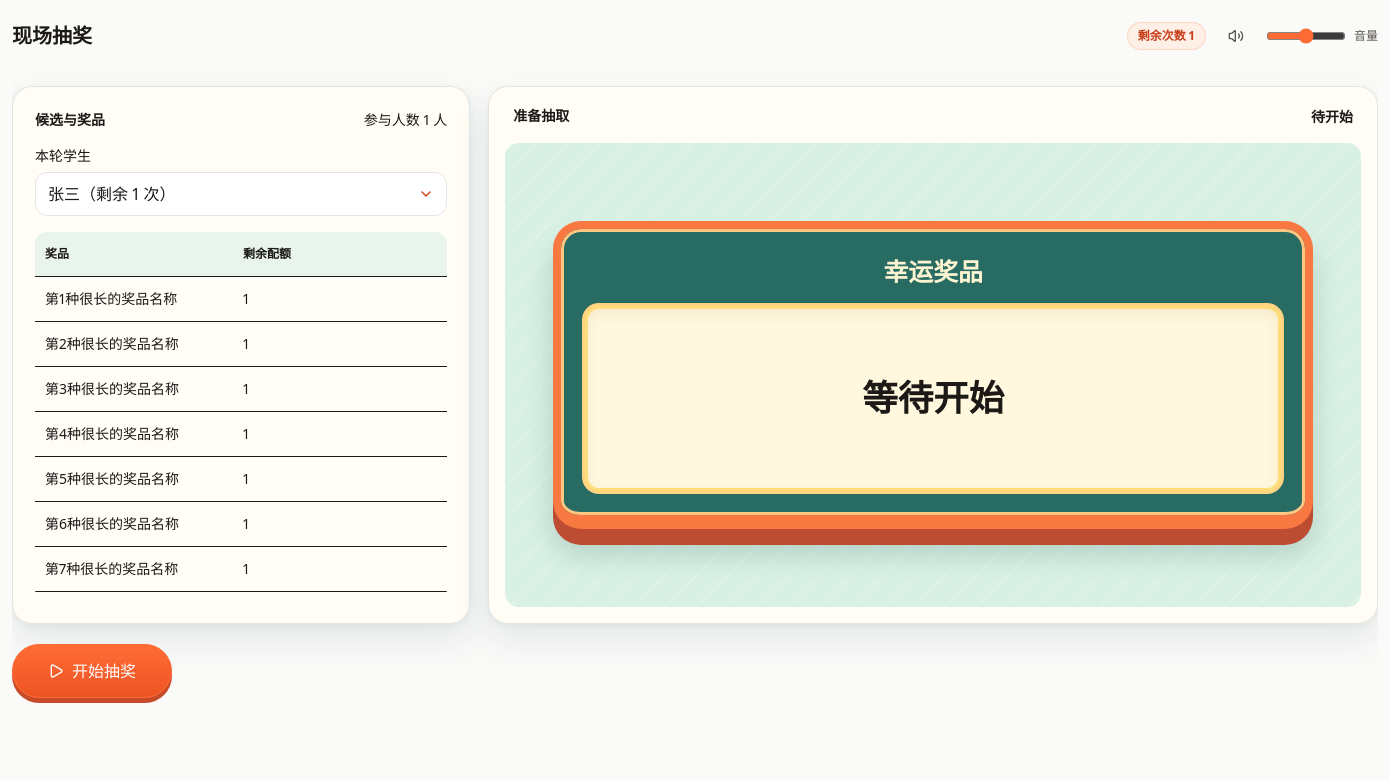
Test: many prize categories keep the slot stage bounded to three windows
Click the dropdown named "本轮学生": (64, 194) [35,172,447,216]
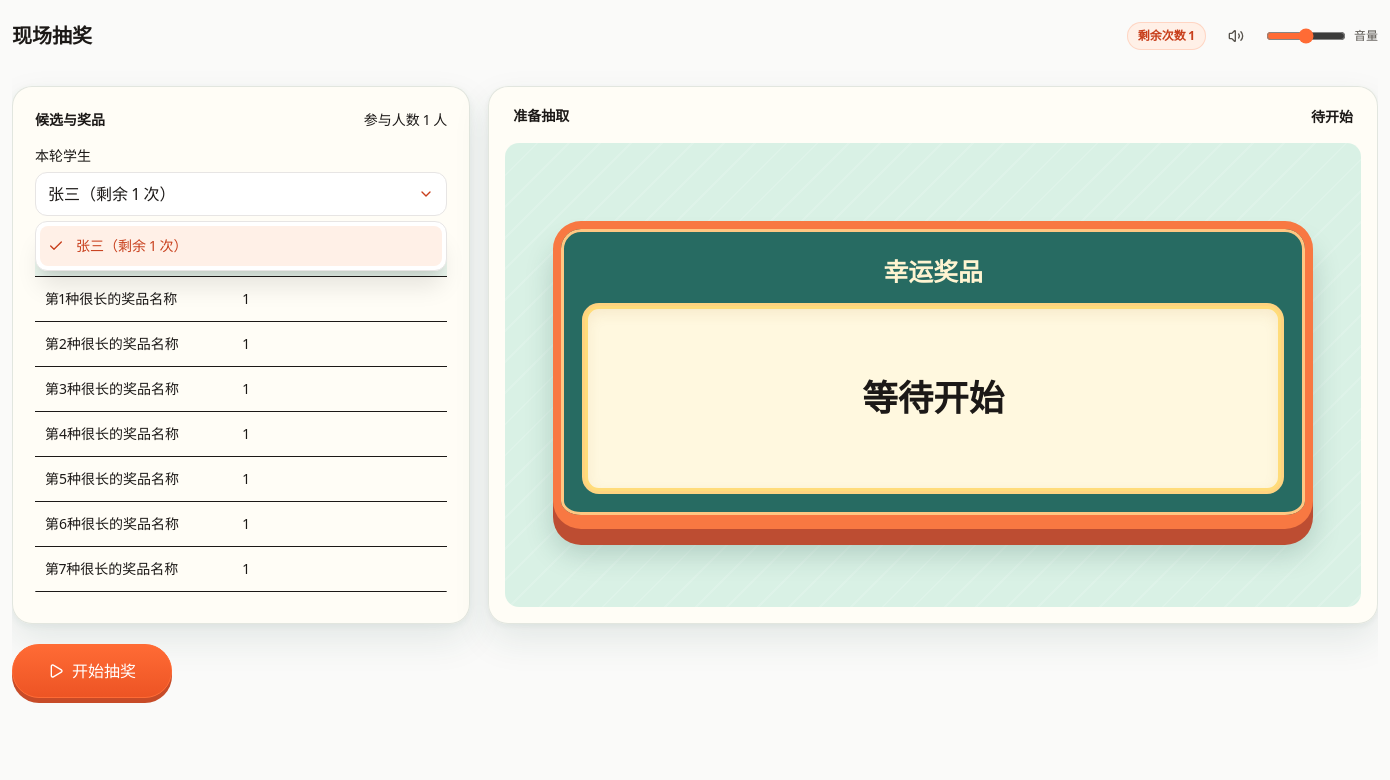
Click the option "张三（剩余 1 次）": (127, 246) [40,226,442,266]
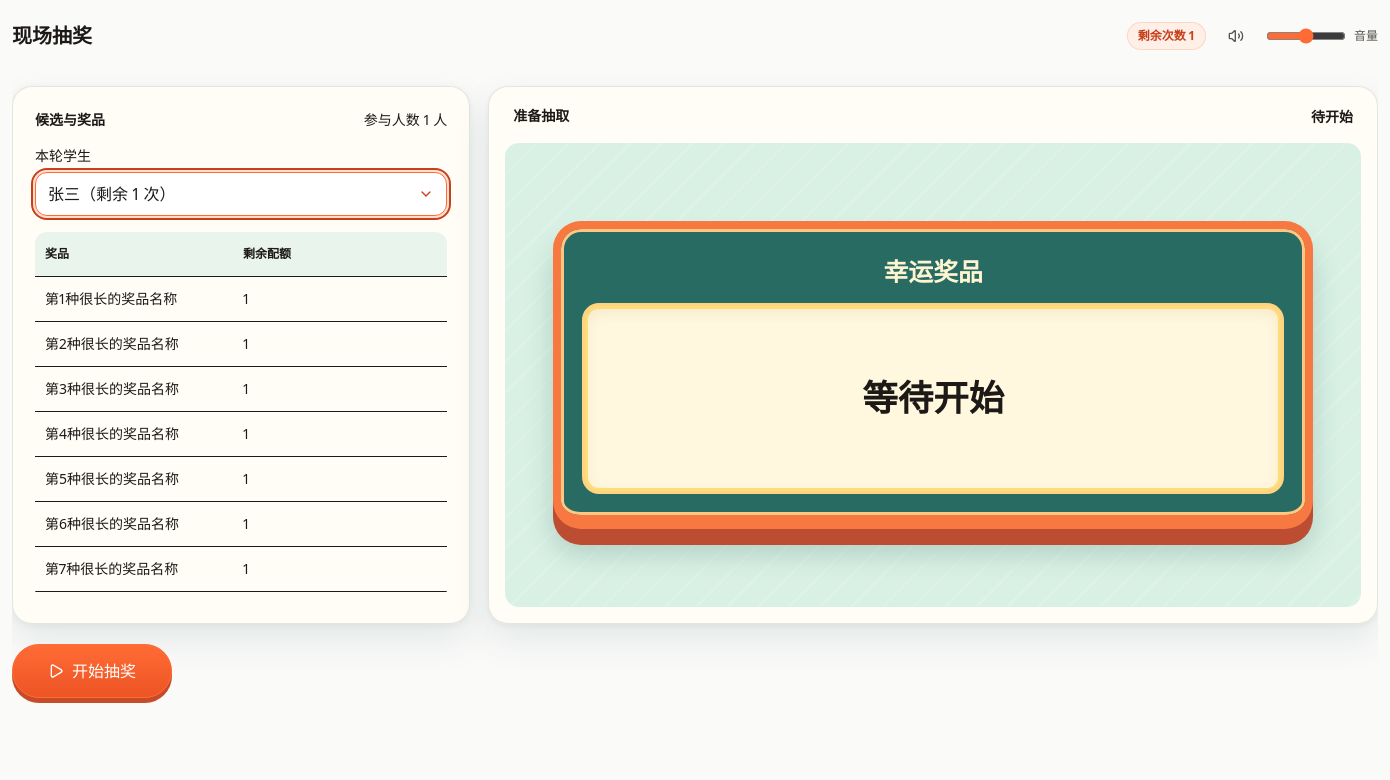
Click the button "开始抽奖": (92, 671) [12,644,172,698]
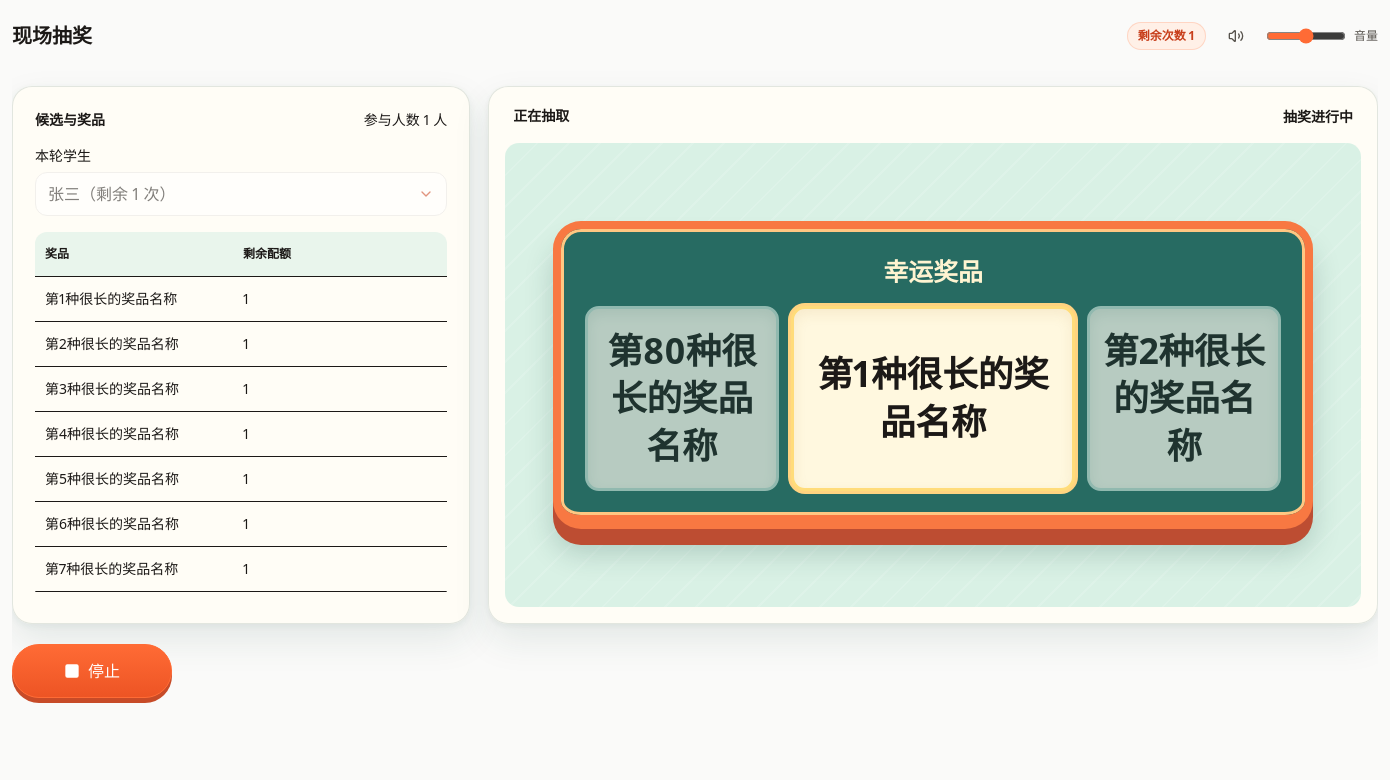
Expected: the element named "抽取候选" does not show "第40种很长的奖品名称", [505,143,1361,607]
Result: the number of elements with test id "slot-window" is 3 at [585,306,779,491]; [791,306,1075,491]; [1087,306,1281,491]
Result: the text with test id "slot-current" reads "第1种很长的奖品名称" at [818,350,1049,445]
